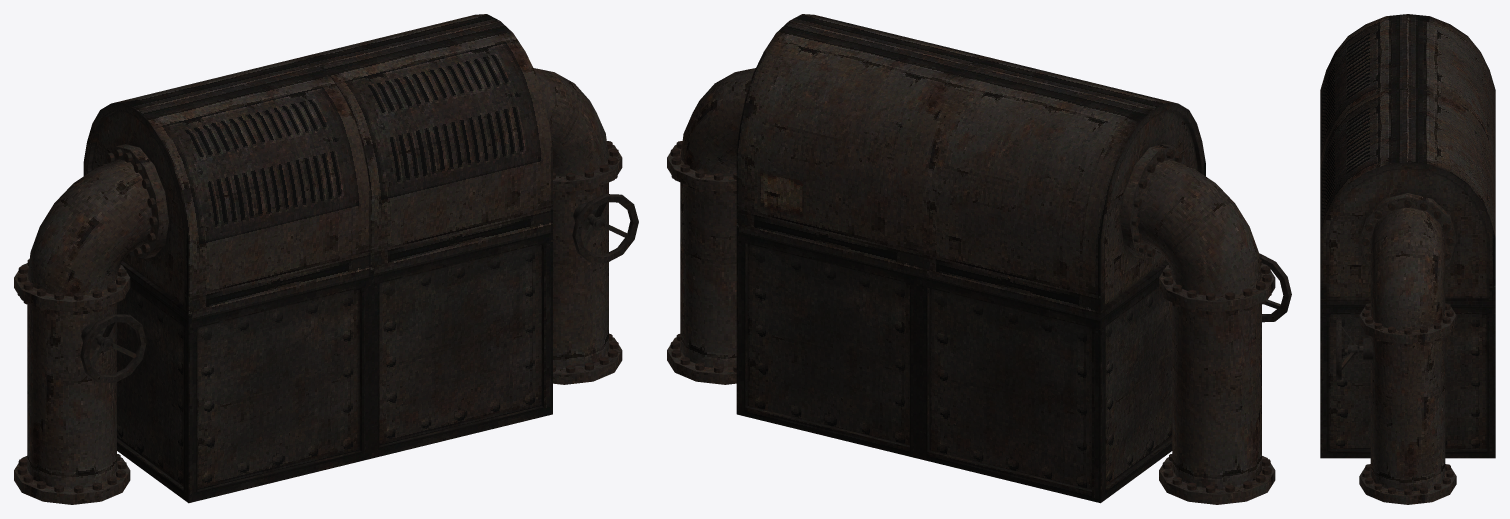
Rendered from machinery_mx_1.glb.
3 views of the same model, side by side, from view 1: azimuth 30°, elevation 25°; view 2: azimuth 150°, elevation 25°; view 3: azimuth 270°, elevation 25° (orthographic). The views are drawn at different scales.
Parts seen in each view (by area): view 1: machinery_mx_1; view 2: machinery_mx_1; view 3: machinery_mx_1.
Boxes of the visible parts, x1,y1,x2,y2 form: machinery_mx_1: (14,14,638,504); machinery_mx_1: (667,14,1291,504); machinery_mx_1: (1320,14,1495,504).
Bounding box in the file's own units: 3.06 × 1.75 × 0.94.
Materials: 1 (1 with a texture image).
